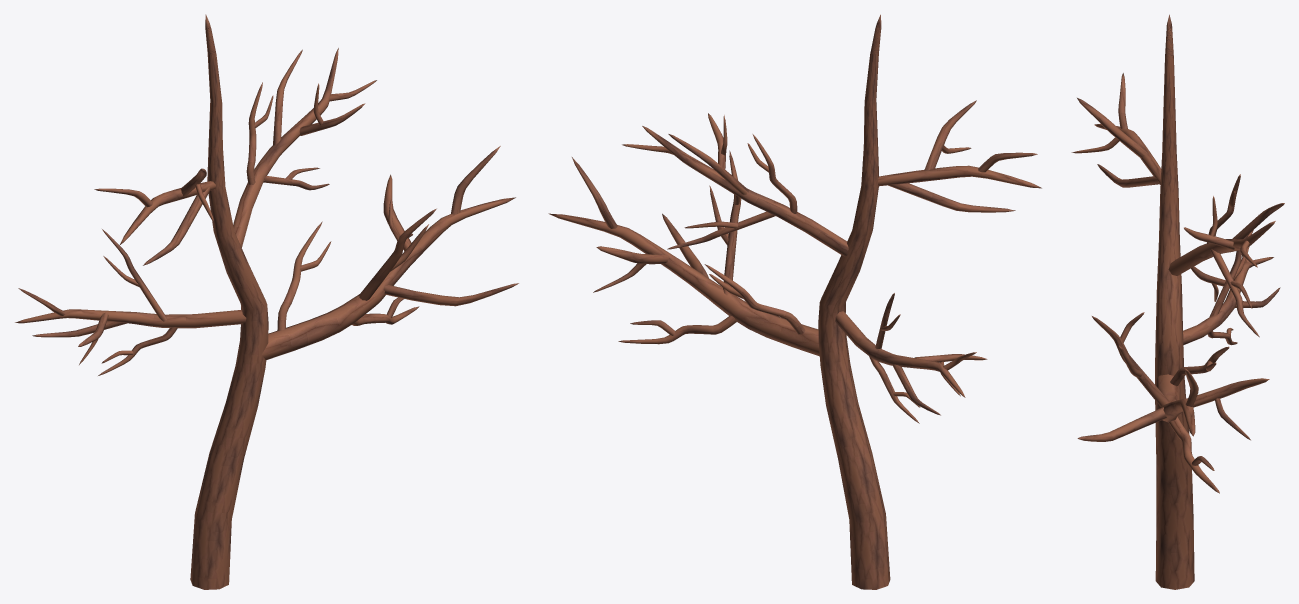
File: DeadTree_3.glb
The picture shows the model from 3 angles, left to right: view 1: azimuth 30°, elevation 25°; view 2: azimuth 150°, elevation 25°; view 3: azimuth 270°, elevation 25°; orthographic projection.
Visible parts, largest first — view 1: DeadTree_3; view 2: DeadTree_3; view 3: DeadTree_3.
Boxes of the visible parts, left/top/right/bottom form: DeadTree_3: left=15, top=14, right=518, bottom=589; DeadTree_3: left=548, top=14, right=1041, bottom=589; DeadTree_3: left=1071, top=14, right=1284, bottom=589.
Bounding box in the file's own units: 4.22 × 4.96 × 1.7.
1 material, 1 textured.
